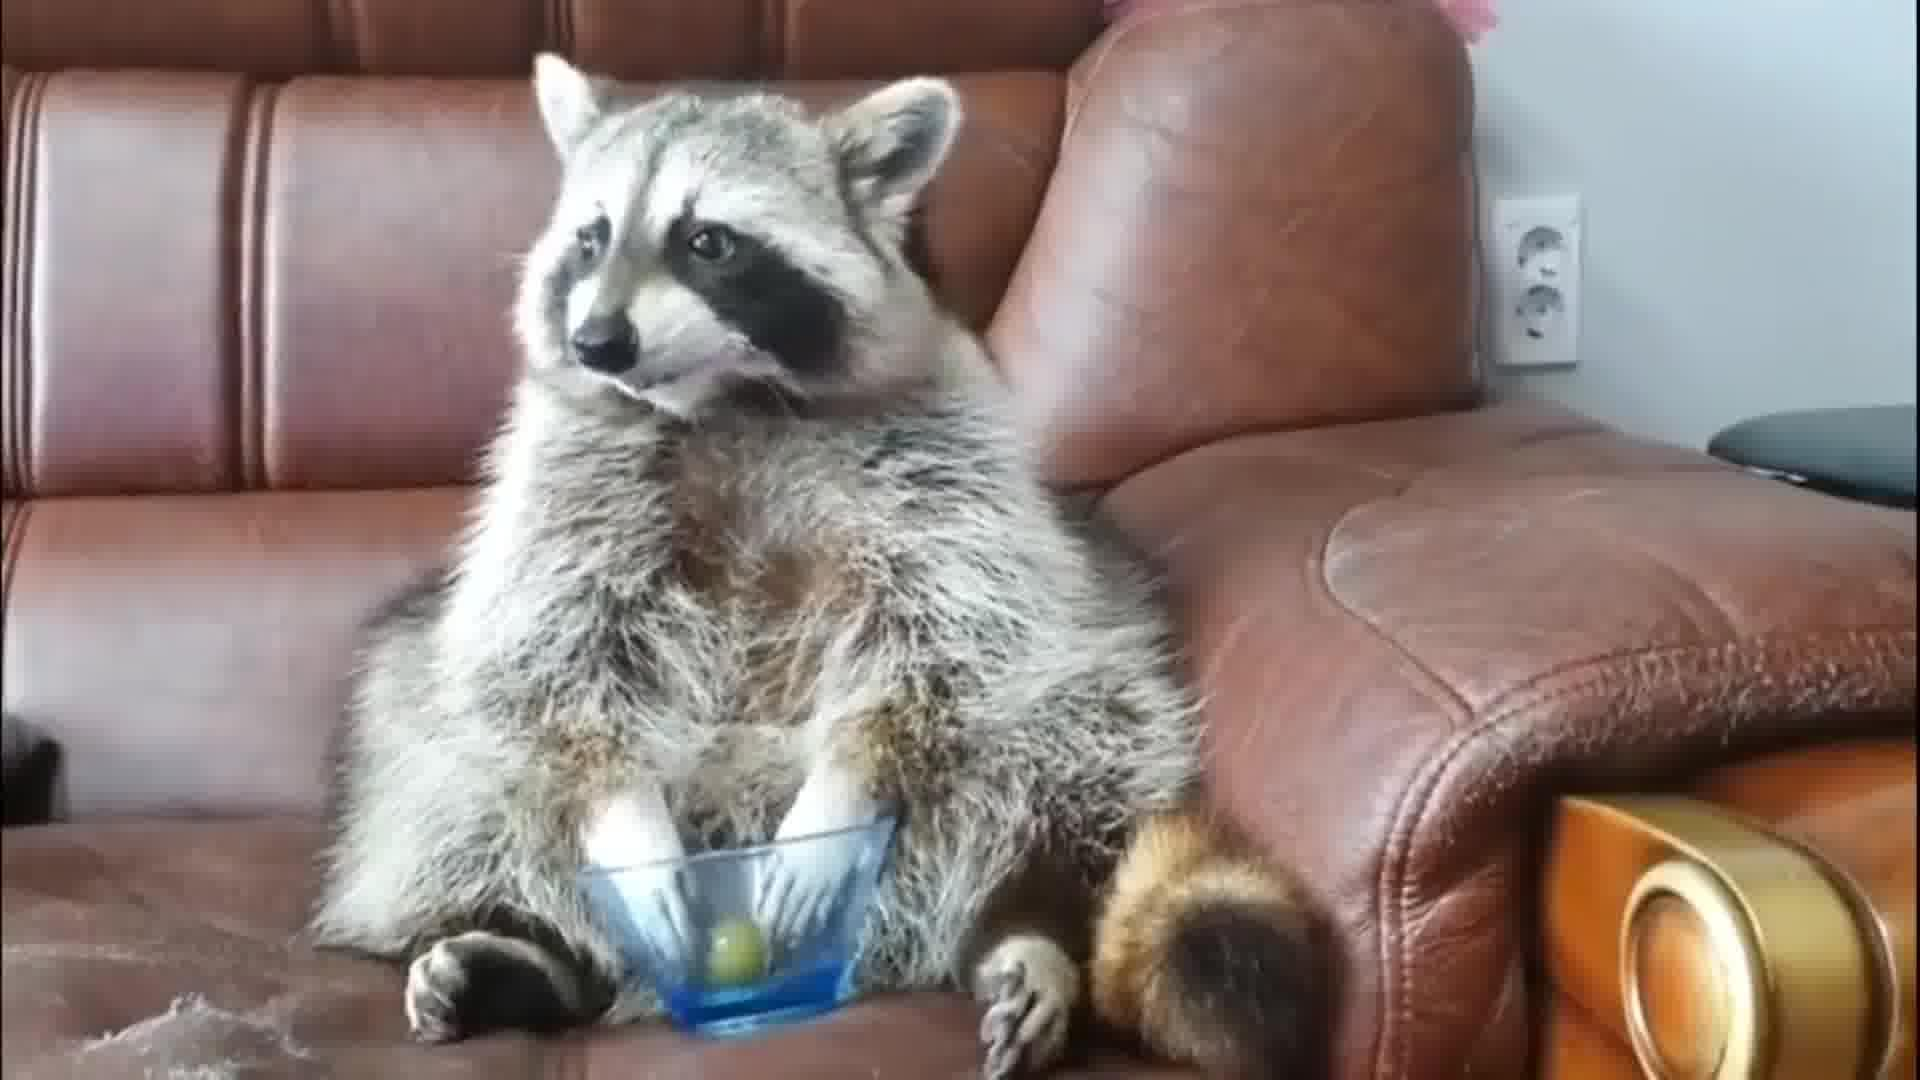raccoon: (291, 46, 1349, 1080)
